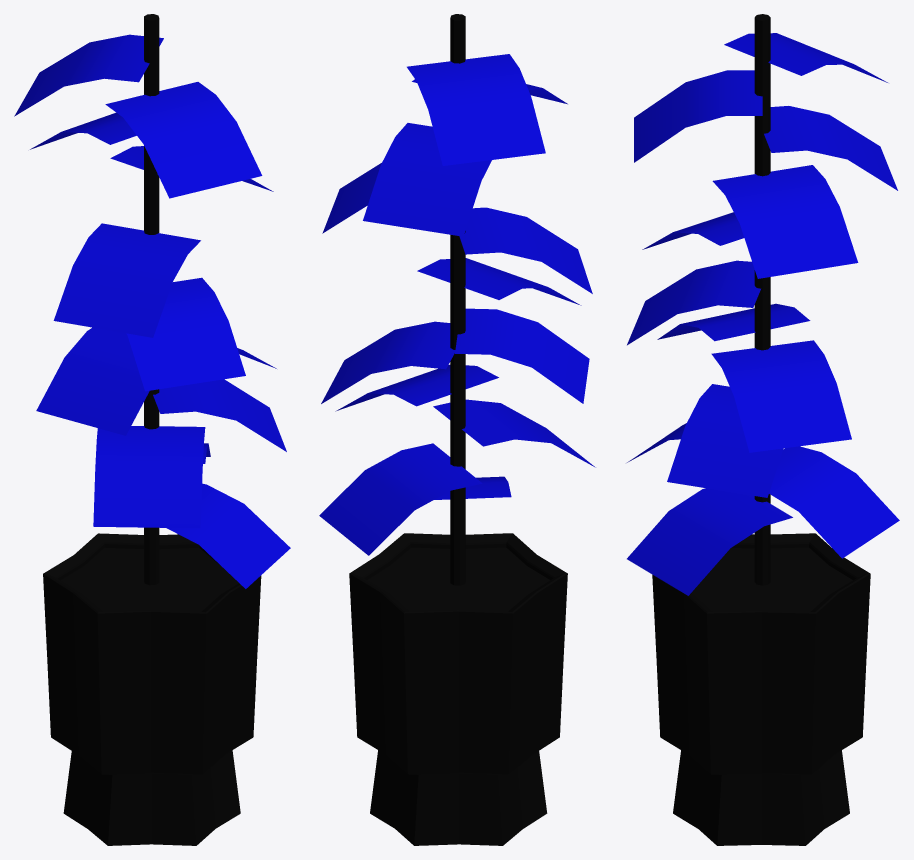
File: Plant_pot_mdl.fbx
3 views of the same model, side by side, from view 1: azimuth 30°, elevation 25°; view 2: azimuth 150°, elevation 25°; view 3: azimuth 270°, elevation 25° (orthographic).
Parts seen in each view (by area): view 1: plant_pot; view 2: plant_pot; view 3: plant_pot.
Boxes of the visible parts, bbox=[...] form: plant_pot: bbox=[14, 14, 290, 845]; plant_pot: bbox=[319, 14, 595, 845]; plant_pot: bbox=[627, 14, 899, 845].
Bounding box in the file's own units: 0.4757 × 1.5 × 0.4697.
